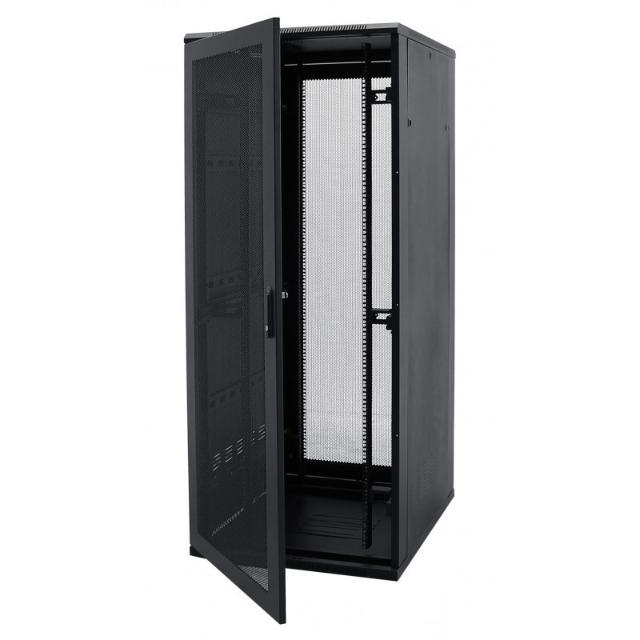Server: (157, 10, 457, 628)
